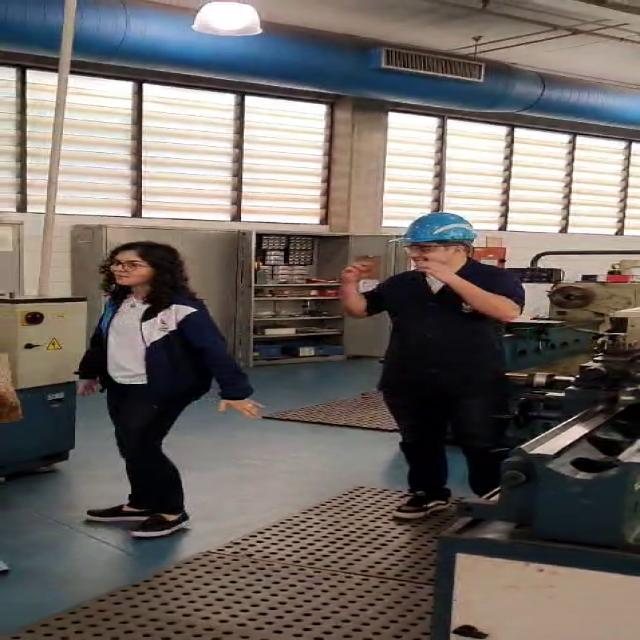oculos-epi: (401, 245, 467, 254)
sem_oculos: (97, 260, 157, 272)
